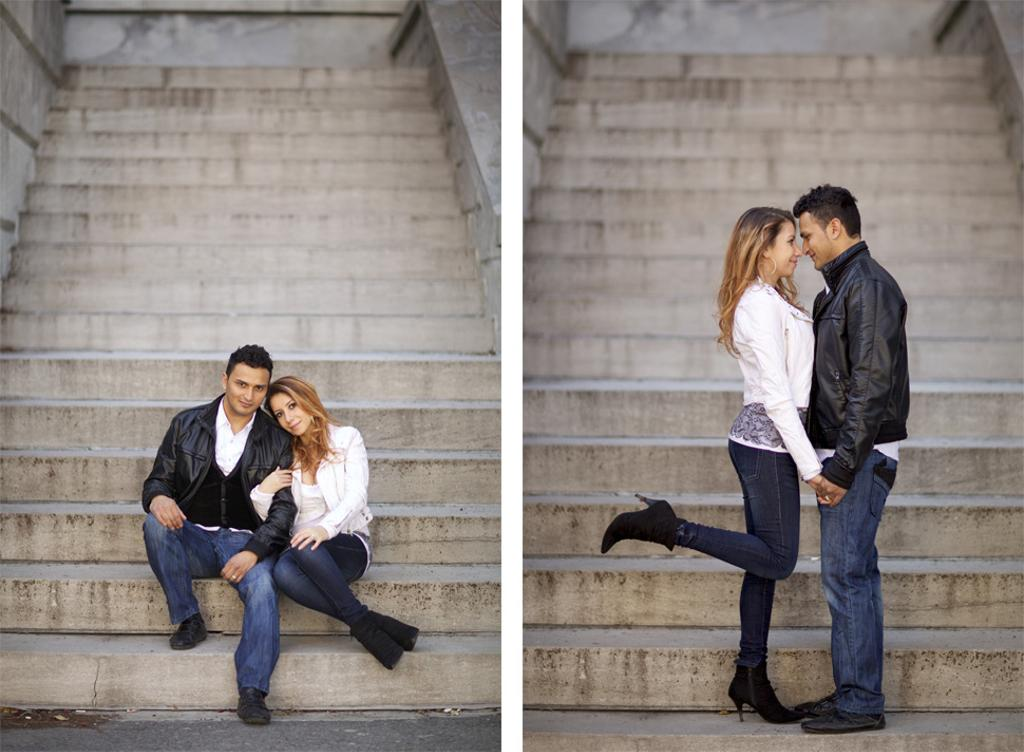face: (226, 359, 269, 413), (769, 216, 801, 275), (798, 211, 830, 270), (270, 392, 310, 435)
